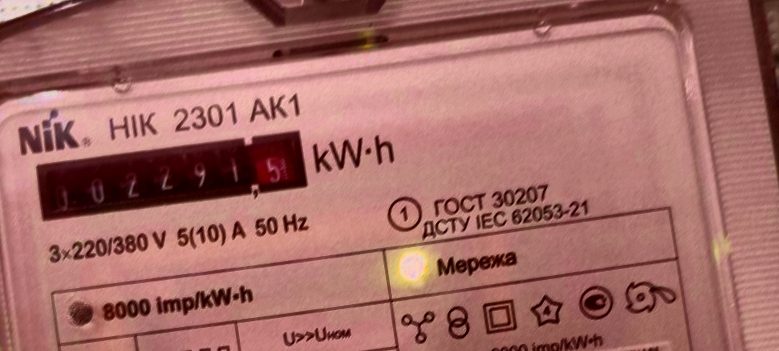0: (50, 179, 72, 210), (87, 173, 107, 205)
1: (224, 151, 243, 187)
2: (122, 168, 142, 199), (156, 161, 174, 192)
5: (263, 152, 283, 184)
9: (190, 157, 210, 189)
screen: (29, 116, 314, 235)
